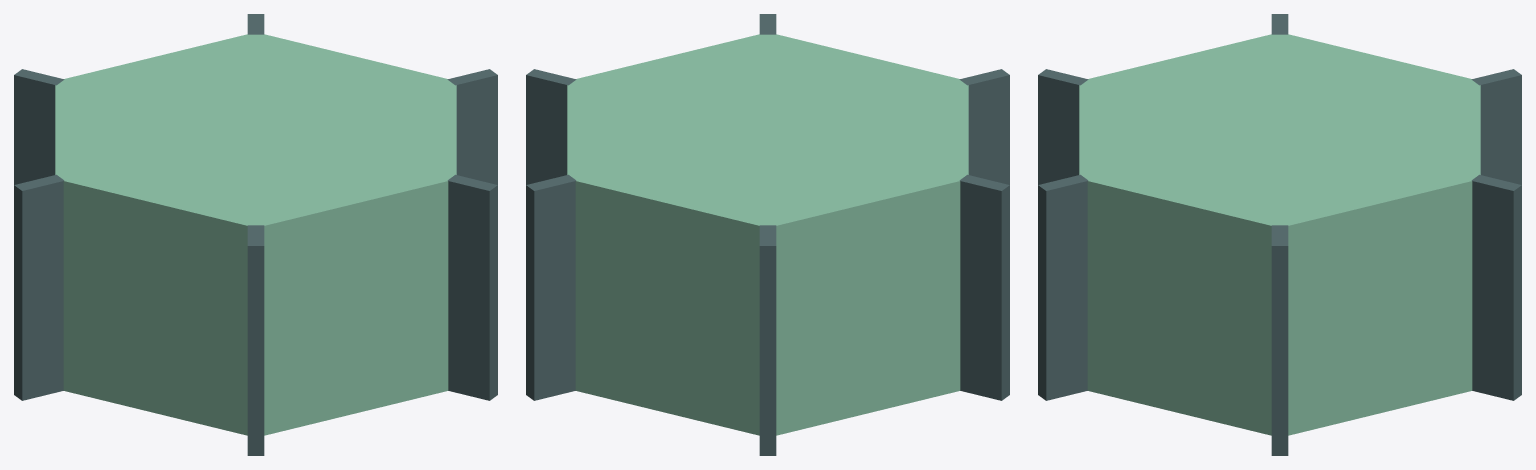
File: cryptex balls out altigen.fbx
The picture shows the model from 3 angles, left to right: view 1: azimuth 30°, elevation 25°; view 2: azimuth 150°, elevation 25°; view 3: azimuth 270°, elevation 25°; orthographic projection.
Visible parts, largest first — view 1: altigen, altigen yan.001, altigen yan.003, altigen yan.004, altigen yan, altigen yan.002; view 2: altigen, altigen yan.001, altigen yan.005, altigen yan.002, altigen yan.004, altigen yan; view 3: altigen, altigen yan.003, altigen yan.005, altigen yan.002, altigen yan, altigen yan.004.
Boxes of the visible parts, box(x1,y1,x2,y2) form: altigen: box(55, 34, 456, 435); altigen yan.001: box(14, 174, 64, 400); altigen yan.003: box(447, 174, 497, 400); altigen yan.004: box(447, 69, 497, 184); altigen yan: box(14, 69, 64, 184); altigen yan.002: box(247, 225, 264, 455); altigen: box(567, 34, 968, 435); altigen yan.001: box(959, 174, 1009, 400); altigen yan.005: box(526, 174, 576, 400); altigen yan.002: box(959, 69, 1009, 184); altigen yan.004: box(526, 69, 576, 184); altigen yan: box(759, 225, 776, 455); altigen: box(1079, 34, 1480, 435); altigen yan.003: box(1038, 174, 1088, 400); altigen yan.005: box(1471, 174, 1521, 400); altigen yan.002: box(1038, 69, 1088, 184); altigen yan: box(1471, 69, 1521, 184); altigen yan.004: box(1271, 225, 1288, 455).
Size of the model in its own units: 474 by 200 by 418.
Materials: 1 (1 with a texture image).
